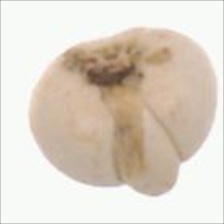L5: (101, 84, 188, 201), (61, 35, 163, 92)
L6: (26, 24, 221, 199)
